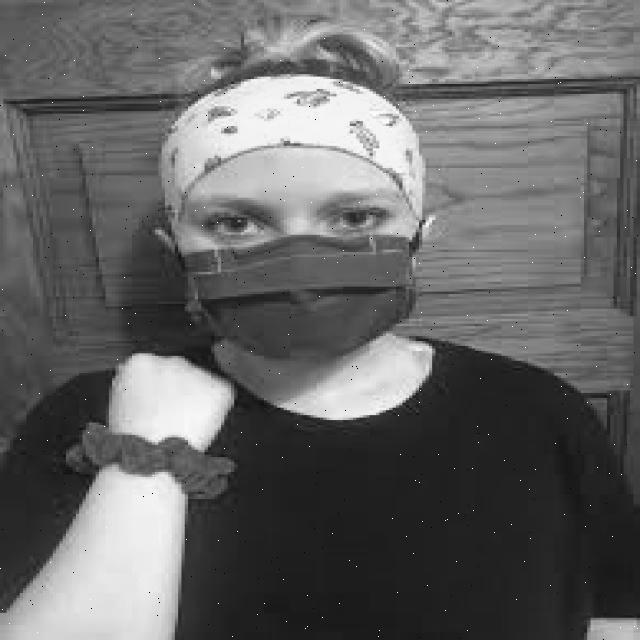fake: (176, 233, 430, 379)
real: (179, 137, 418, 381)
